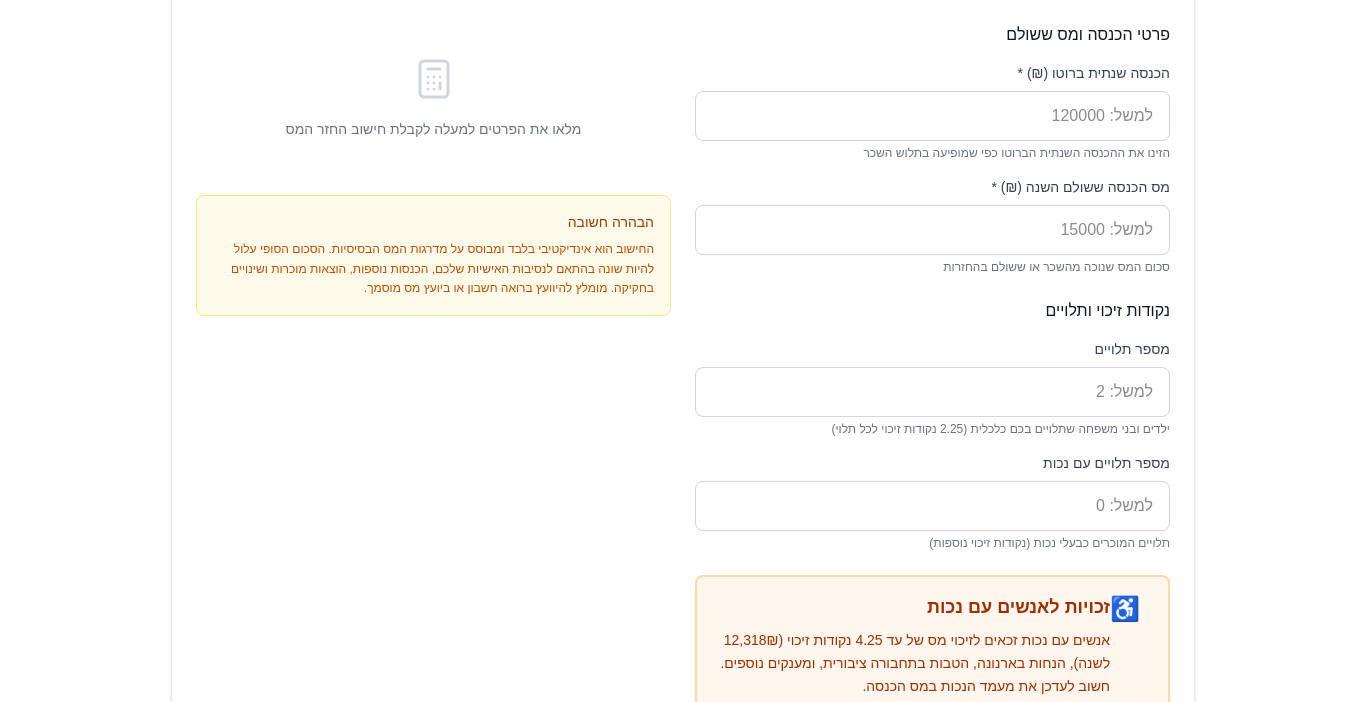
Test: TaxRefundCalculatorEnhanced › Tax Calculations › displays tax bracket information
// Fill form with income in second tax bracket
Type "90000" into the number field labelled "הכנסה שנתית ברוטו (₪) *".
click(932, 116); type("90000")  # box [695,91,1170,141]
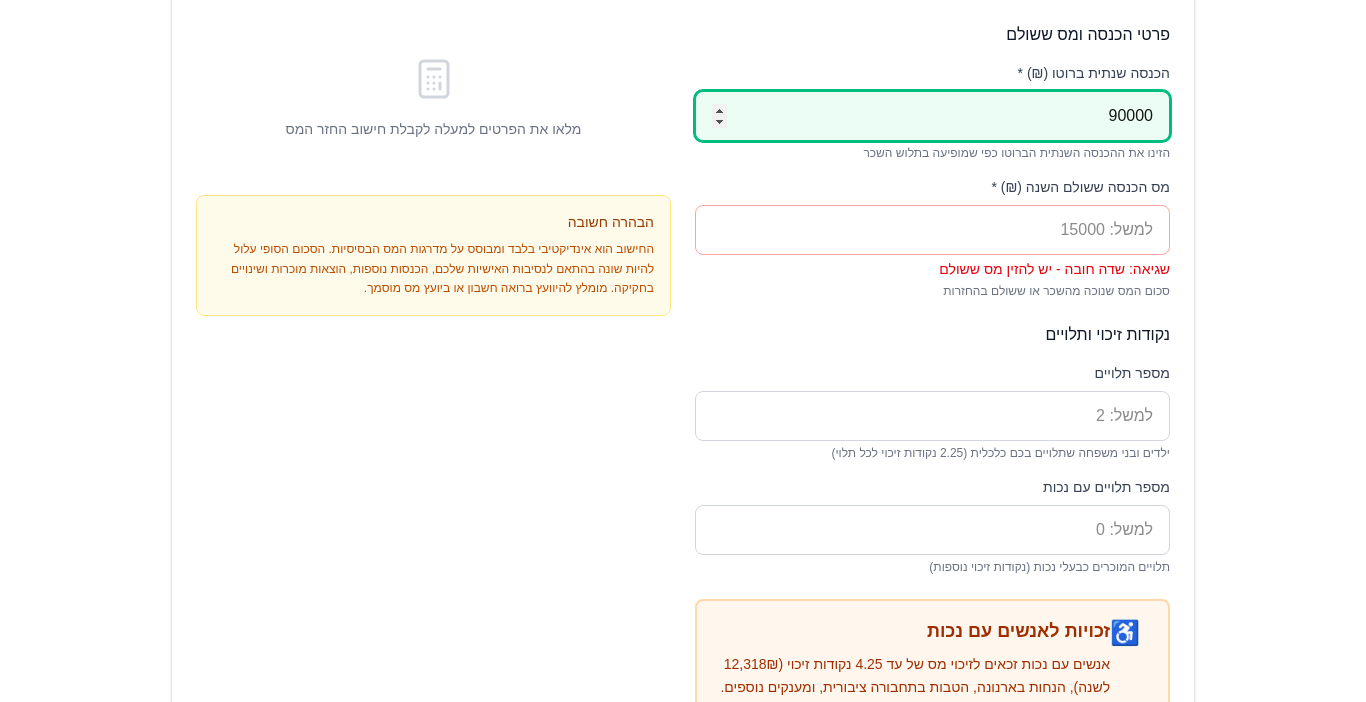
Type "10000" into the number field labelled "מס הכנסה ששולם השנה (₪) *".
click(932, 230); type("10000")  # box [695,205,1170,255]
(page scrolled)
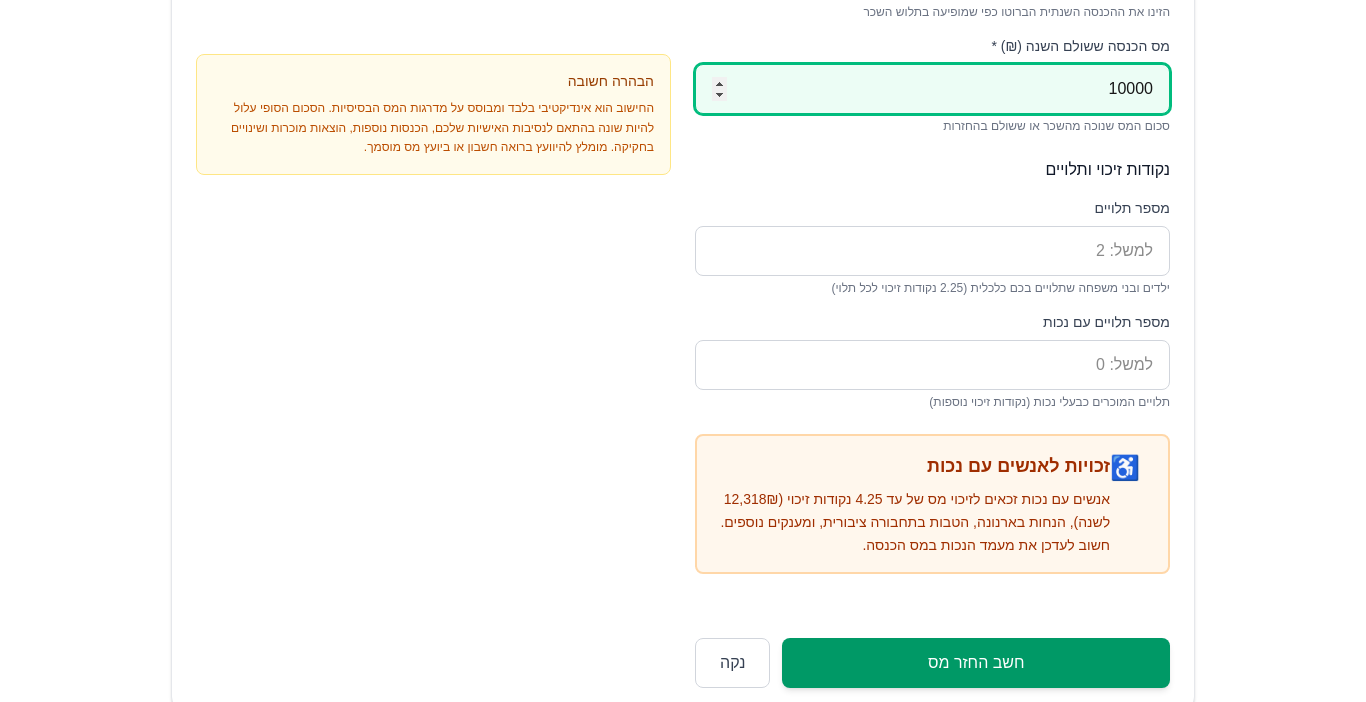
Click the button "חשב החזר מס".
click(976, 663)  # box [782,638,1170,688]
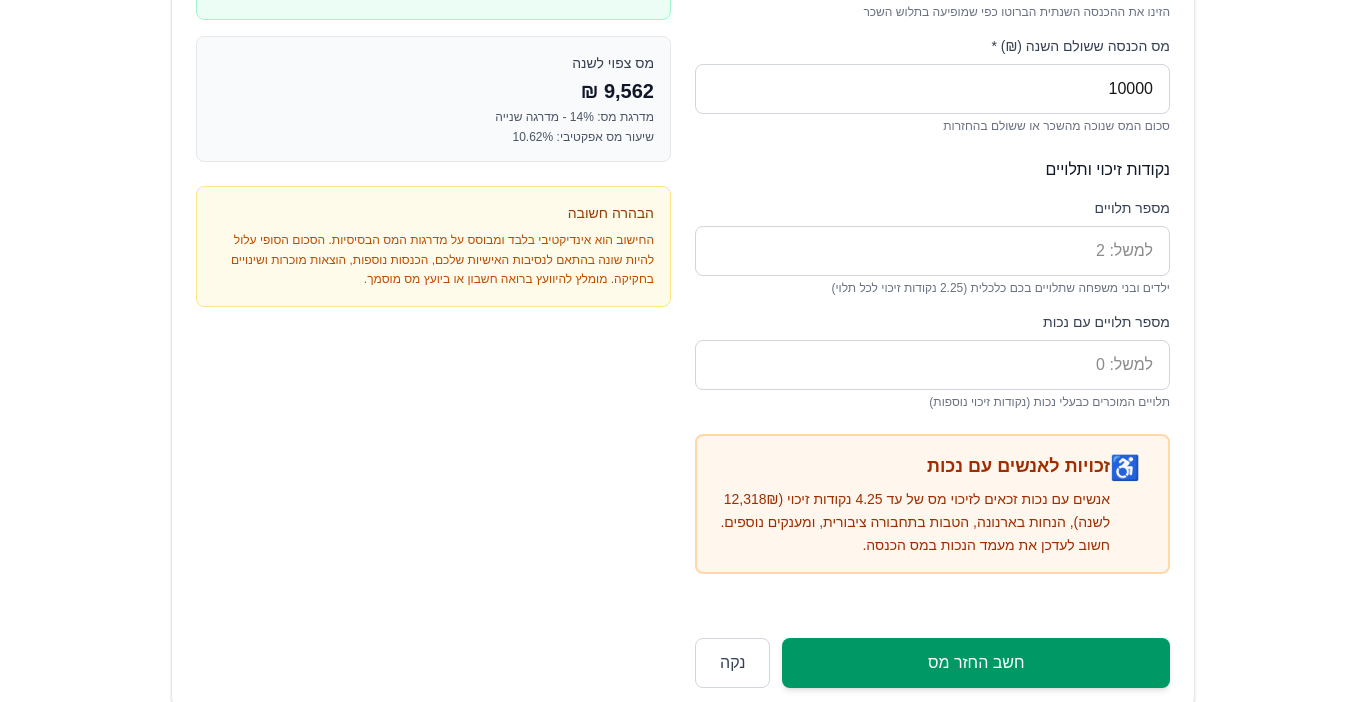
Expected: the text "מדרגת מס: 14% - מדרגה שנייה" is shown, [495,110,654,124]
Expected: the text "שיעור מס אפקטיבי: 10.62%" is shown, [512,130,654,144]
